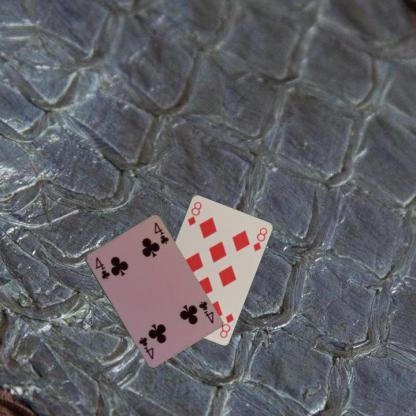4c: (196, 298, 215, 325), (92, 254, 110, 280)
8d: (216, 310, 235, 340), (185, 198, 203, 228)
